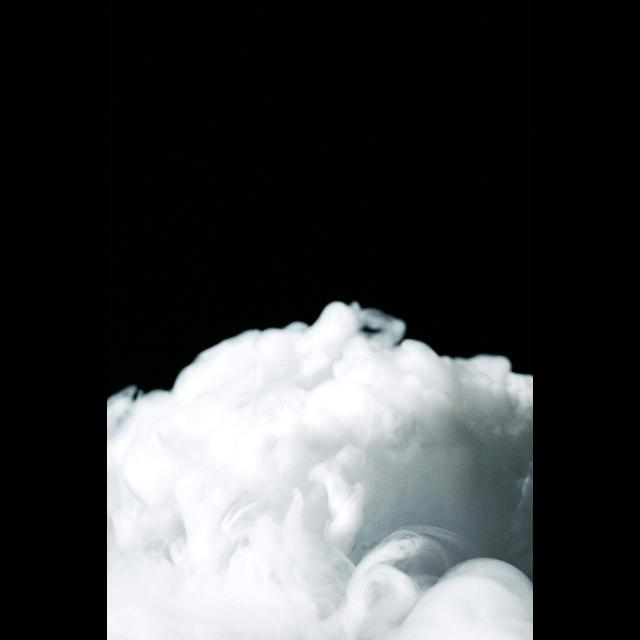smoke: (107, 363, 534, 640)
